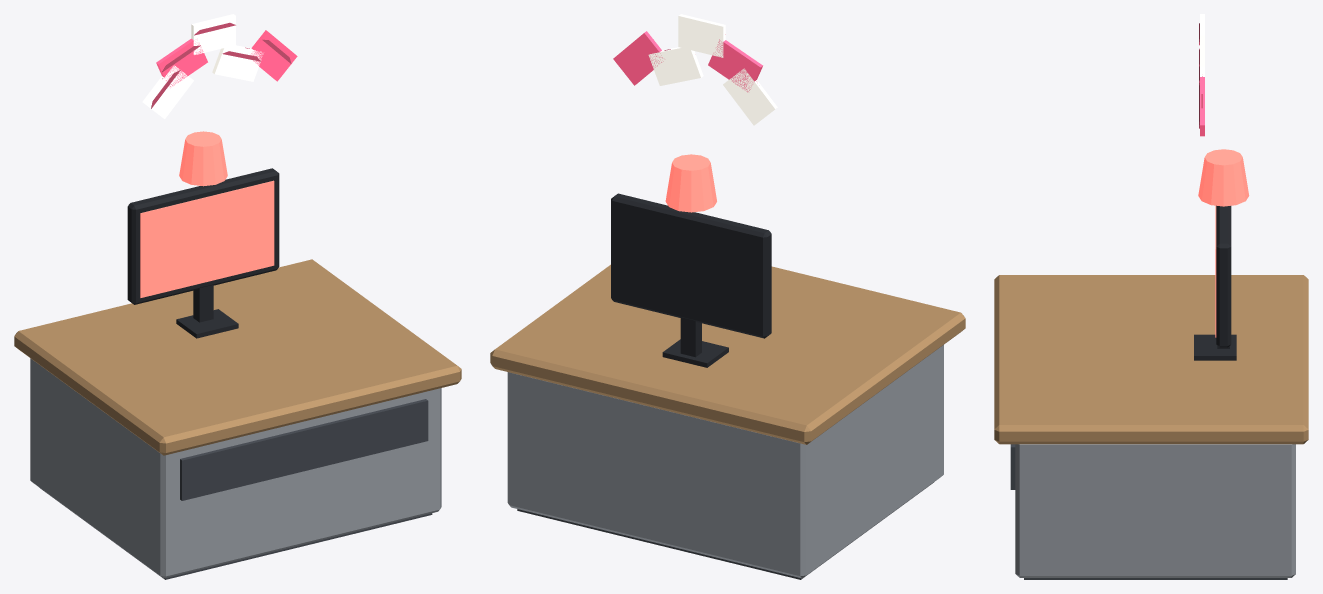
Rendered from replyall_p0_4.glb.
The picture shows the model from 3 angles, left to right: view 1: azimuth 30°, elevation 25°; view 2: azimuth 150°, elevation 25°; view 3: azimuth 270°, elevation 25°; orthographic projection. The views are drawn at different scales.
Visible parts, largest first — view 1: replyall_p0_4_mesh_Desk, replyall_p0_4_mesh; view 2: replyall_p0_4_mesh_Desk, replyall_p0_4_mesh; view 3: replyall_p0_4_mesh_Desk, replyall_p0_4_mesh.
Part boxes in pixels (left/top/right/bottom): replyall_p0_4_mesh_Desk: left=14, top=259, right=461, bottom=579; replyall_p0_4_mesh: left=127, top=14, right=297, bottom=338; replyall_p0_4_mesh_Desk: left=490, top=264, right=965, bottom=579; replyall_p0_4_mesh: left=611, top=14, right=777, bottom=367; replyall_p0_4_mesh_Desk: left=994, top=275, right=1308, bottom=579; replyall_p0_4_mesh: left=1194, top=14, right=1249, bottom=360.
Bounding box in the file's own units: 0.86 × 1.26 × 0.74.
